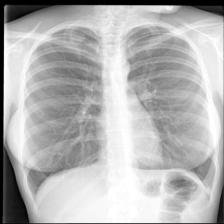tuberculosis: (13, 18, 221, 224)
